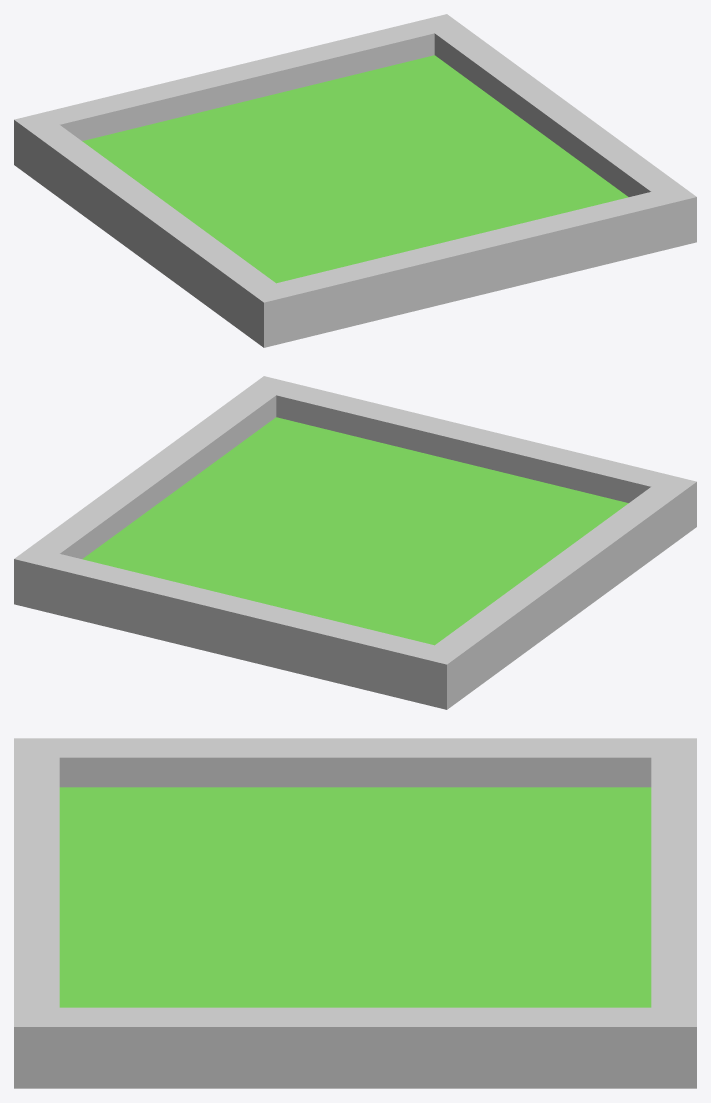
The model's file is flowerbed2.fbx.
3 views of the same model, one above another, from view 1: azimuth 30°, elevation 25°; view 2: azimuth 150°, elevation 25°; view 3: azimuth 270°, elevation 25° (orthographic). The views are drawn at different scales.
Parts seen in each view (by area): view 1: flowerbed1; view 2: flowerbed1; view 3: flowerbed1.
Boxes of the visible parts, left/top/right/bottom form: flowerbed1: left=14, top=14, right=696, bottom=347; flowerbed1: left=14, top=376, right=696, bottom=709; flowerbed1: left=14, top=738, right=696, bottom=1088.
Size of the model in its own units: 200 by 20 by 200.
